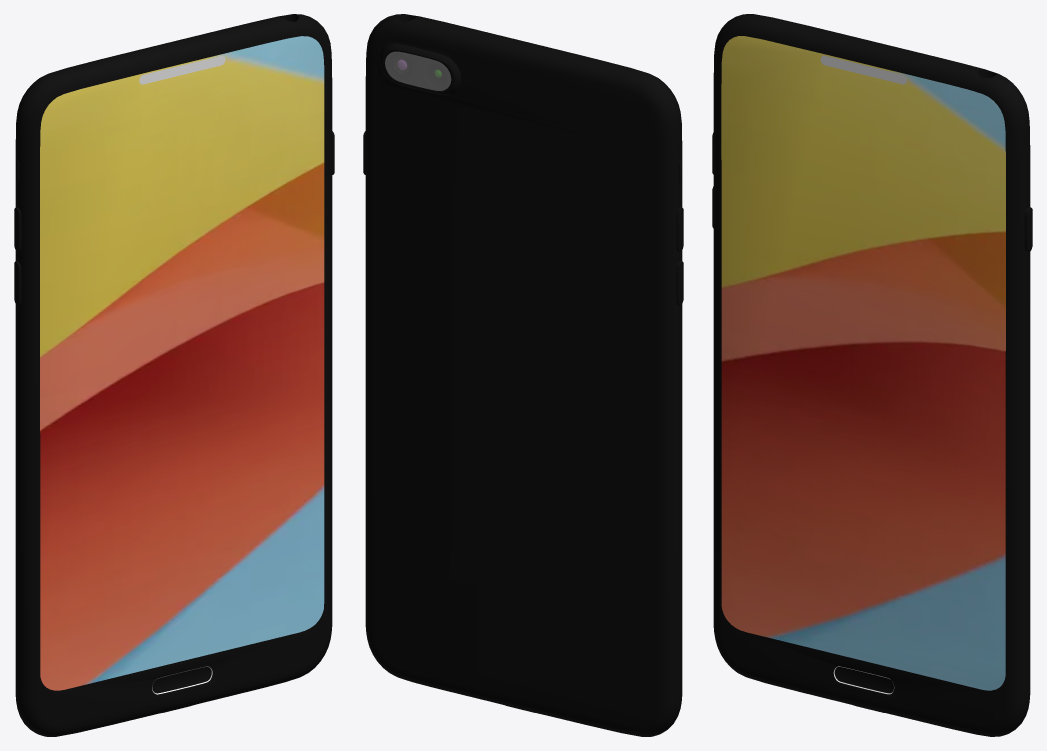
The model's file is smartphone.glb.
3 views of the same model, side by side, from view 1: azimuth 30°, elevation 25°; view 2: azimuth 150°, elevation 25°; view 3: azimuth 330°, elevation 25° (orthographic).
Parts seen in each view (by area): view 1: Object_9, Object_10, Object_8; view 2: Object_10, Object_4, Object_3; view 3: Object_9, Object_10, Object_8.
Boxes of the visible parts, x1=… form: Object_9: x1=40, y1=36, x2=324, y2=690; Object_10: x1=14, y1=14, x2=334, y2=736; Object_8: x1=139, y1=55, x2=225, y2=84; Object_10: x1=363, y1=14, x2=683, y2=736; Object_4: x1=385, y1=51, x2=451, y2=90; Object_3: x1=387, y1=53, x2=446, y2=85; Object_9: x1=721, y1=36, x2=1005, y2=690; Object_10: x1=712, y1=14, x2=1032, y2=736; Object_8: x1=820, y1=55, x2=906, y2=84.
Size of the model in its own units: 3.44 by 6.91 by 0.3648.
Materials: 8 (2 with a texture image).
